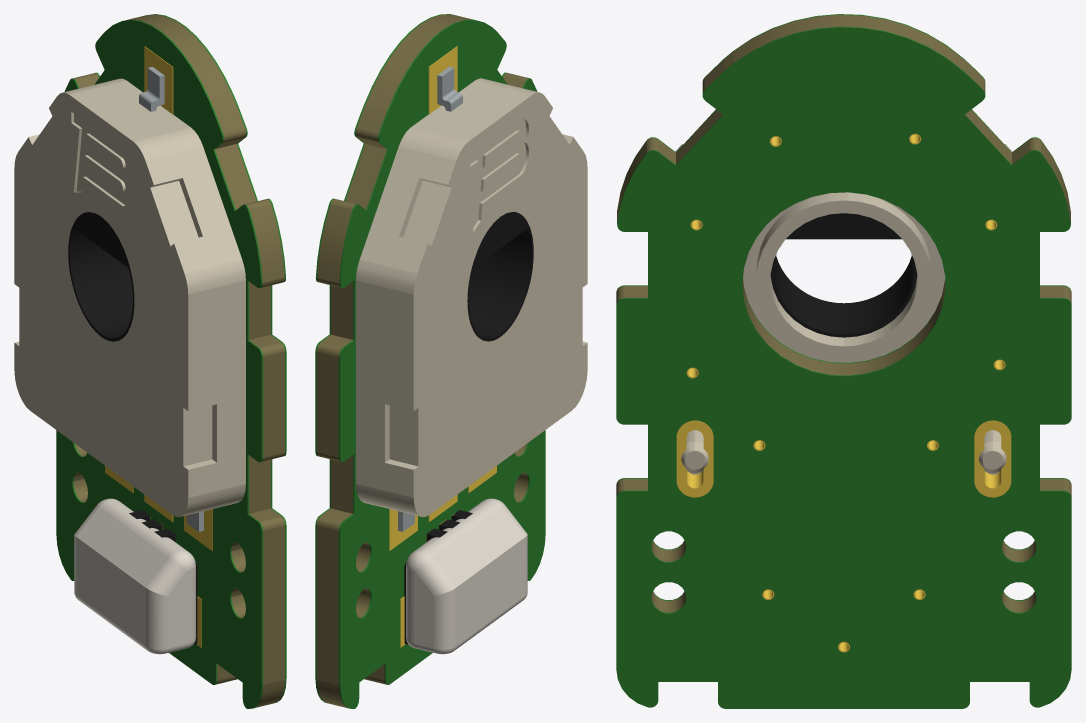
Rendered from finger_pot_assem.glb.
The picture shows the model from 3 angles, left to right: view 1: azimuth 30°, elevation 25°; view 2: azimuth 150°, elevation 25°; view 3: azimuth 270°, elevation 25°; orthographic projection. The views are drawn at different scales.
Visible parts, largest first — view 1: Body1, Body1007, Body1003, Body1013, Body1010, Body1034, Body1041, Body1042; view 2: Body1, Body1007, Body1003, Body1013, Body1010, Body1034, Body1041, Body1024; view 3: Body1034, Body1, Body1003, Body1010, Body1016, Body1046, Body1007.
Boxes of the visible parts, <box> form: Body1: <box>14,66,245,531</box>; Body1007: <box>56,19,263,708</box>; Body1003: <box>73,14,284,708</box>; Body1013: <box>74,498,195,654</box>; Body1010: <box>68,212,134,341</box>; Body1034: <box>95,14,286,702</box>; Body1041: <box>144,46,173,114</box>; Body1042: <box>184,509,212,550</box>; Body1: <box>356,66,587,531</box>; Body1007: <box>338,19,545,708</box>; Body1003: <box>317,14,528,708</box>; Body1013: <box>406,498,527,654</box>; Body1010: <box>467,212,533,341</box>; Body1034: <box>315,14,506,702</box>; Body1041: <box>428,46,457,114</box>; Body1024: <box>389,509,417,550</box>; Body1034: <box>616,26,1071,708</box>; Body1: <box>675,144,1012,474</box>; Body1003: <box>616,14,1071,612</box>; Body1010: <box>770,213,917,337</box>; Body1016: <box>676,420,713,497</box>; Body1046: <box>974,420,1011,497</box>; Body1007: <box>616,14,1071,600</box>.
Bounding box in the file's own units: 0.00313 × 0.0215 × 0.013.
